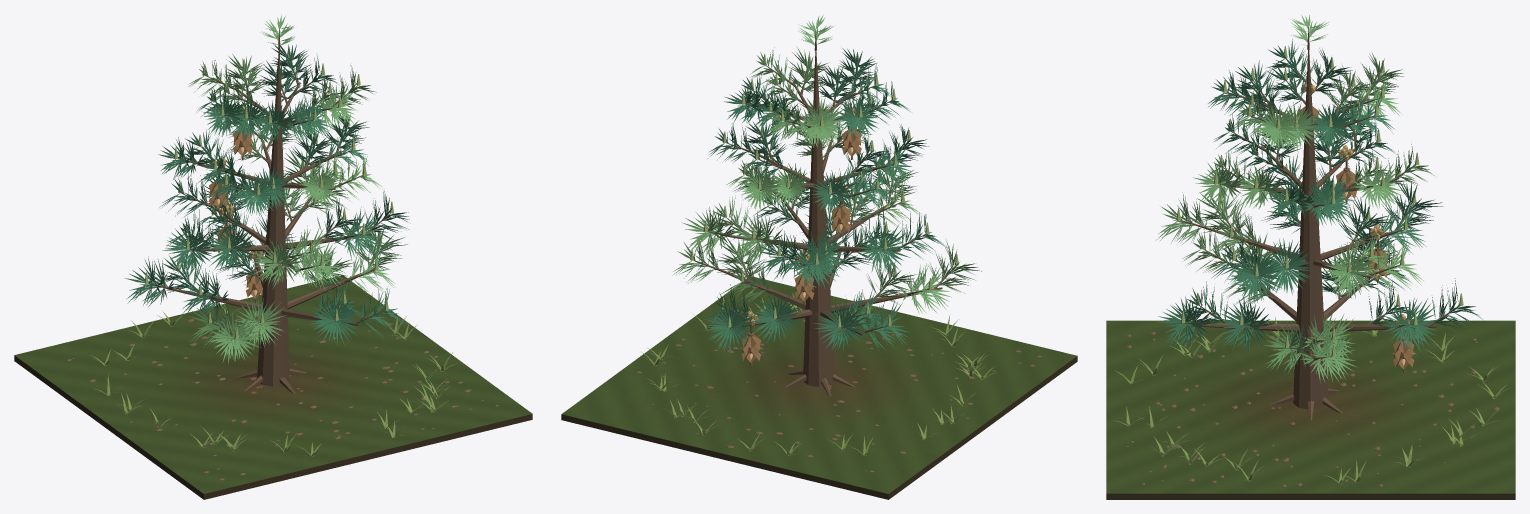
Rendered from pine-tree-v4.glb.
The picture shows the model from 3 angles, left to right: view 1: azimuth 30°, elevation 25°; view 2: azimuth 150°, elevation 25°; view 3: azimuth 270°, elevation 25°; orthographic projection. The views are drawn at different scales.
Visible parts, largest first — view 1: Static_mesh, PineTrunk_mesh, PineNeedles.013_mesh, PineNeedles.011_mesh, PineNeedles.021_mesh, PineNeedles.023_mesh, PineNeedles.025_mesh, PineNeedles.009_mesh, PineNeedles.028_mesh, PineNeedles.038_mesh, PineNeedles.040_mesh, PineNeedles.026_mesh (+24 smaller); view 2: Static_mesh, PineTrunk_mesh, PineNeedles.003_mesh, PineNeedles.005_mesh, PineNeedles.007_mesh, PineNeedles.020_mesh, PineNeedles.022_mesh, PineNeedles.017_mesh, PineNeedles.015_mesh, PineNeedles.047_mesh, PineNeedles.049_mesh, PineNeedles.032_mesh (+24 smaller); view 3: Static_mesh, PineTrunk_mesh, PineNeedles.029_mesh, PineNeedles.016_mesh, PineNeedles.004_mesh, PineNeedles.027_mesh, PineNeedles.012_mesh, PineNeedles.002_mesh, PineNeedles.014_mesh, PineNeedles.001_mesh, PineNeedles.056_mesh, PineNeedles.058_mesh (+37 smaller).
Boxes of the visible parts, x1,y1,x2,y2 form: Static_mesh: (14, 275, 532, 499); PineTrunk_mesh: (236, 50, 306, 393); PineNeedles.013_mesh: (309, 294, 360, 345); PineNeedles.011_mesh: (208, 311, 262, 363); PineNeedles.021_mesh: (204, 222, 255, 273); PineNeedles.023_mesh: (162, 222, 216, 273); PineNeedles.025_mesh: (249, 239, 302, 289); PineNeedles.009_mesh: (235, 297, 286, 349); PineNeedles.028_mesh: (334, 207, 387, 260); PineNeedles.038_mesh: (232, 173, 276, 216); PineNeedles.040_mesh: (299, 164, 340, 208); PineNeedles.026_mesh: (292, 241, 346, 290); Static_mesh: (561, 276, 1077, 499); PineTrunk_mesh: (784, 51, 854, 396); PineNeedles.003_mesh: (748, 291, 800, 342); PineNeedles.005_mesh: (702, 301, 755, 352); PineNeedles.007_mesh: (812, 302, 866, 351); PineNeedles.020_mesh: (787, 238, 840, 290); PineNeedles.022_mesh: (856, 221, 910, 274); PineNeedles.017_mesh: (681, 207, 735, 257); PineNeedles.015_mesh: (730, 211, 783, 263); PineNeedles.047_mesh: (794, 106, 841, 148); PineNeedles.049_mesh: (836, 95, 881, 137); PineNeedles.032_mesh: (738, 166, 782, 210); Static_mesh: (1106, 320, 1515, 499); PineTrunk_mesh: (1270, 50, 1343, 420); PineNeedles.029_mesh: (1228, 248, 1283, 303); PineNeedles.016_mesh: (1322, 244, 1378, 298); PineNeedles.004_mesh: (1382, 297, 1439, 353); PineNeedles.027_mesh: (1260, 238, 1313, 294); PineNeedles.012_mesh: (1213, 297, 1273, 352); PineNeedles.002_mesh: (1299, 330, 1357, 383); PineNeedles.014_mesh: (1155, 296, 1212, 350); PineNeedles.001_mesh: (1263, 321, 1319, 373); PineNeedles.056_mesh: (1253, 105, 1300, 149); PineNeedles.058_mesh: (1308, 104, 1353, 148).
Size of the model in its own units: 3.5 by 3.76 by 3.5.
